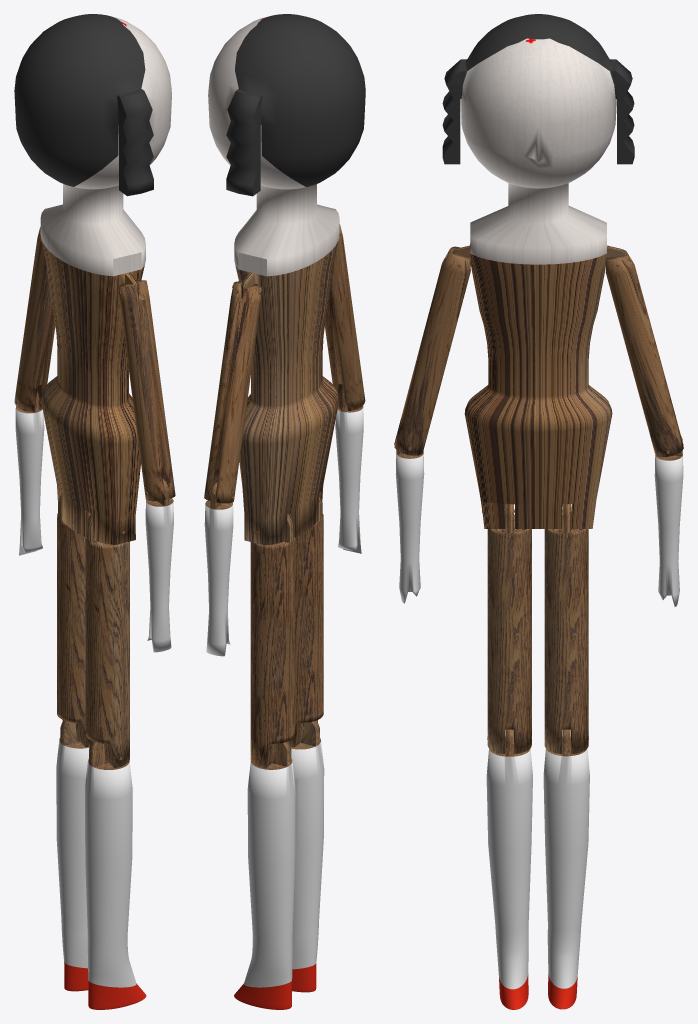
Rendered from Wooden+Doll.fbx.
3 views of the same model, side by side, from view 1: azimuth 30°, elevation 25°; view 2: azimuth 150°, elevation 25°; view 3: azimuth 270°, elevation 25° (orthographic).
Parts seen in each view (by area): view 1: Doll, Right Leg, Right Thigh Leg, Left Leg, Right Arm, Left Thigh Leg, Left Arm, Right Fore Arm, Left Fore Arm; view 2: Doll, Left Leg, Left Thigh Leg, Right Leg, Left Arm, Right Thigh Leg, Right Arm, Left Fore Arm, Right Fore Arm; view 3: Doll, Right Leg, Right Thigh Leg, Left Leg, Left Thigh Leg, Right Arm, Left Arm, Left Fore Arm, Right Fore Arm.
Boxes of the visible parts, x1=… form: Doll: x1=14, y1=14, x2=171, y2=544; Right Leg: x1=85, y1=741, x2=146, y2=1009; Right Thigh Leg: x1=85, y1=513, x2=129, y2=767; Left Leg: x1=56, y1=720, x2=89, y2=991; Right Arm: x1=118, y1=280, x2=175, y2=501; Left Thigh Leg: x1=57, y1=495, x2=91, y2=746; Left Arm: x1=14, y1=227, x2=55, y2=411; Right Fore Arm: x1=145, y1=479, x2=173, y2=652; Left Fore Arm: x1=15, y1=391, x2=44, y2=555; Doll: x1=208, y1=14, x2=365, y2=545; Left Leg: x1=234, y1=741, x2=295, y2=1009; Left Thigh Leg: x1=250, y1=514, x2=294, y2=768; Right Leg: x1=291, y1=720, x2=324, y2=992; Left Arm: x1=204, y1=281, x2=261, y2=503; Right Thigh Leg: x1=289, y1=495, x2=323, y2=747; Right Arm: x1=325, y1=224, x2=365, y2=410; Left Fore Arm: x1=204, y1=481, x2=233, y2=656; Right Fore Arm: x1=335, y1=389, x2=363, y2=553; Doll: x1=442, y1=14, x2=634, y2=528; Right Leg: x1=486, y1=729, x2=532, y2=1009; Right Thigh Leg: x1=487, y1=504, x2=531, y2=754; Left Leg: x1=543, y1=729, x2=589, y2=1009; Left Thigh Leg: x1=544, y1=504, x2=588, y2=754; Right Arm: x1=394, y1=246, x2=470, y2=455; Left Arm: x1=605, y1=249, x2=683, y2=457; Left Fore Arm: x1=654, y1=435, x2=683, y2=606; Right Fore Arm: x1=395, y1=437, x2=424, y2=603.
Bounding box in the file's own units: 9.29 × 59.27 × 16.06.
